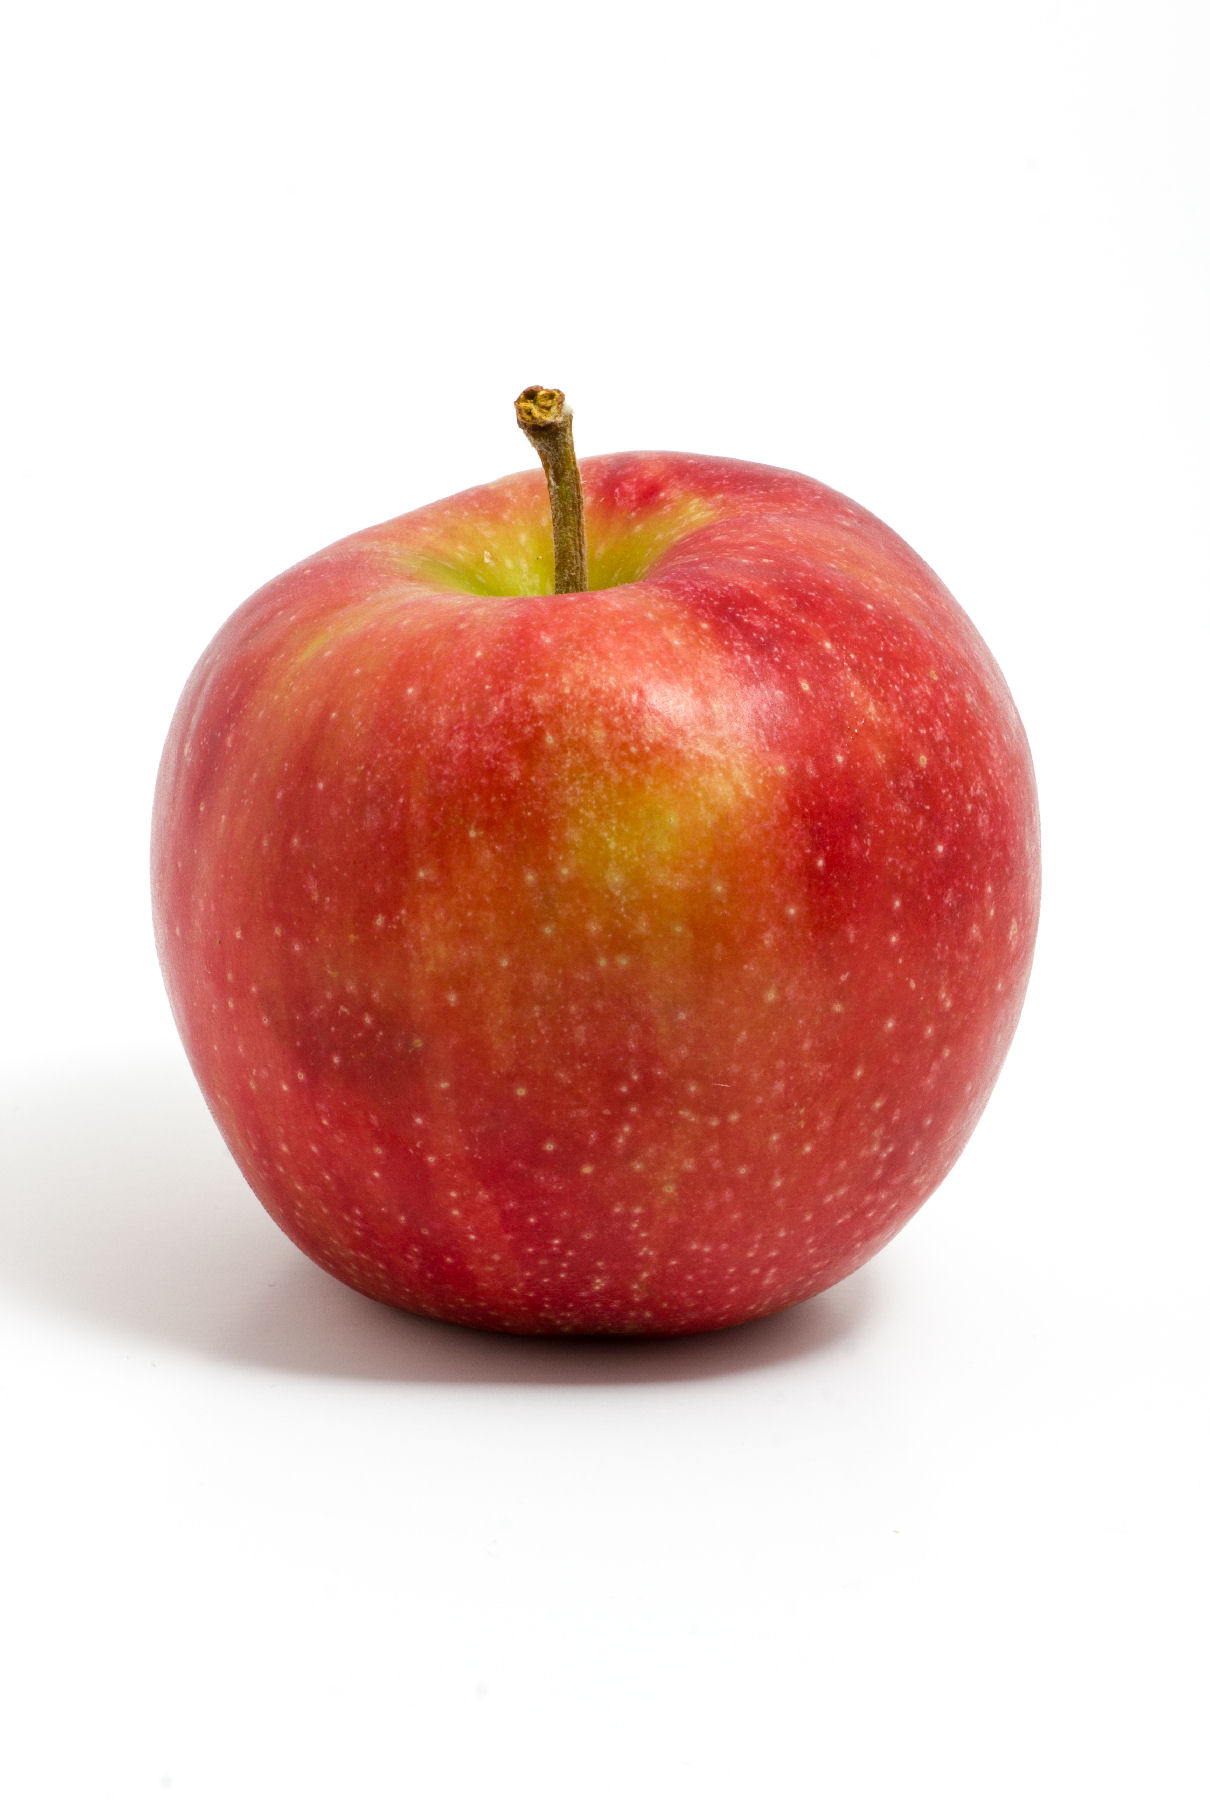apple: (144, 431, 1056, 1356)
